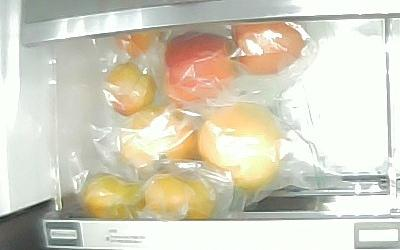apple_vinyl: (163, 31, 235, 103), (230, 21, 308, 76)
grapefruit_vinyl: (197, 102, 282, 191), (118, 106, 198, 168)
persimmon_vinyl: (145, 169, 215, 219), (85, 172, 144, 218)
prune_vinyl: (104, 63, 157, 117)
